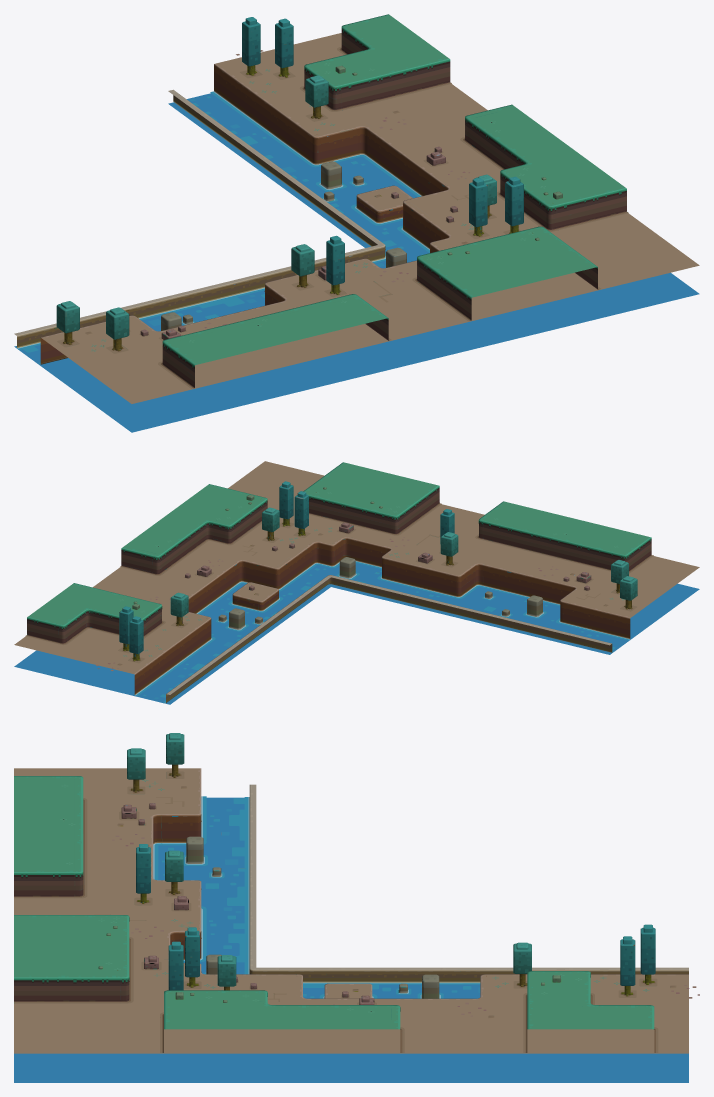
The model's file is C_water1_out_LU.fbx.
3 views of the same model, one above another, from view 1: azimuth 30°, elevation 25°; view 2: azimuth 150°, elevation 25°; view 3: azimuth 270°, elevation 25° (orthographic). The views are drawn at different scales.
Visible parts, largest first — view 1: C_water1_out_LU; view 2: C_water1_out_LU; view 3: C_water1_out_LU.
Boxes of the visible parts, x1,y1,x2,y2 form: C_water1_out_LU: (14, 14, 699, 432); C_water1_out_LU: (14, 461, 699, 704); C_water1_out_LU: (14, 733, 699, 1082).
Bounding box in the file's own units: 117 × 16.47 × 119.
1 material, 1 textured.
